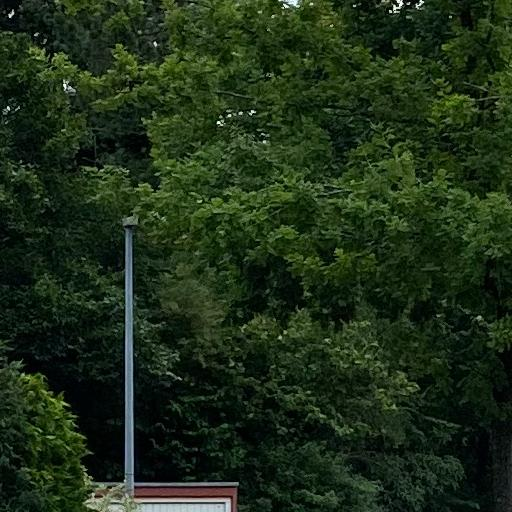tree: (25, 1, 511, 511), (1, 1, 466, 512)
